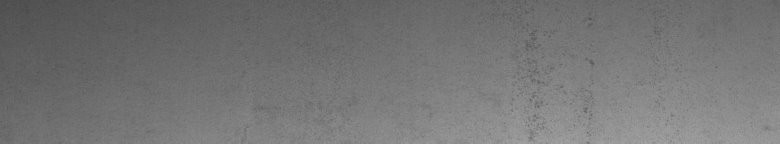ib: (521, 17, 594, 128)
